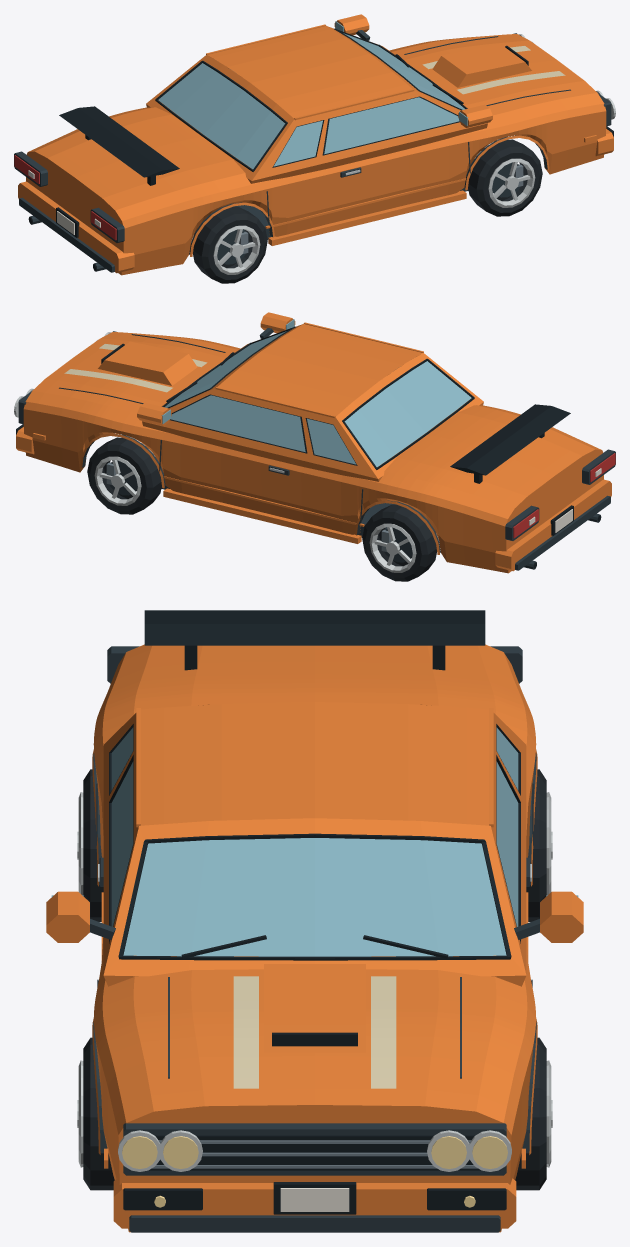
Rendered from b03_classic_muscle_coupe.glb.
The picture shows the model from 3 angles, top to bottom: view 1: azimuth 30°, elevation 25°; view 2: azimuth 150°, elevation 25°; view 3: azimuth 270°, elevation 25°; orthographic projection. The views are drawn at different scales.
Visible parts, largest first — view 1: b03_classic_muscle_coupe; view 2: b03_classic_muscle_coupe; view 3: b03_classic_muscle_coupe.
Part boxes in pixels (<box>): b03_classic_muscle_coupe: <box>14,14,615,283</box>; b03_classic_muscle_coupe: <box>14,312,615,581</box>; b03_classic_muscle_coupe: <box>46,610,583,1232</box>.
Bounding box in the file's own units: 5.09 × 1.36 × 2.34.
